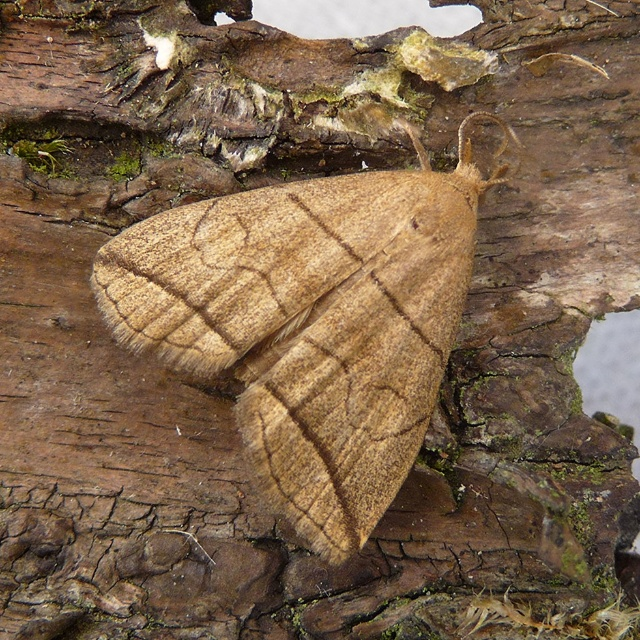Moths and butterflies: (87, 110, 529, 568)
